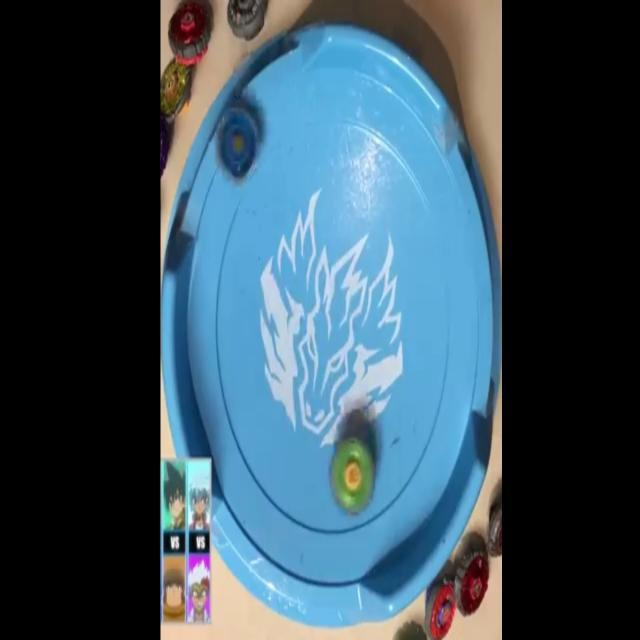Beyblade: (329, 436, 376, 514), (216, 109, 258, 183), (168, 0, 211, 65), (456, 550, 490, 616), (160, 58, 192, 124), (424, 574, 456, 640)
